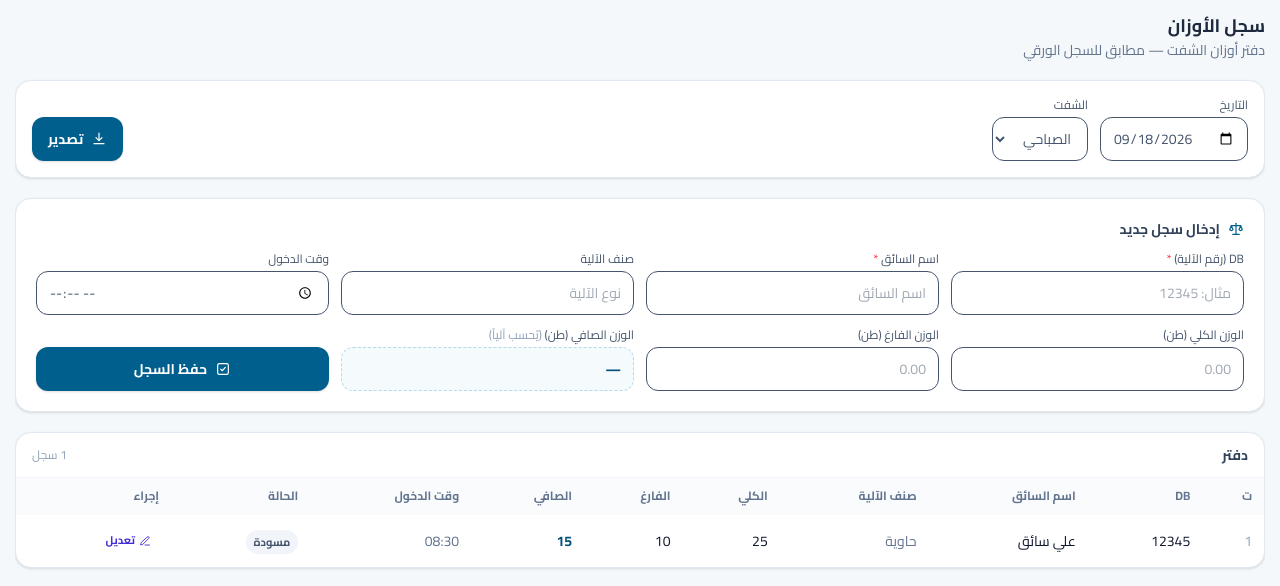
it: WeightsPage — التعديل › إلغاء التعديل يعيد النموذج لإدخال سجل جديد
Click the button with test id "edit-w1".
click(128, 541)  # box [98,525,159,557]
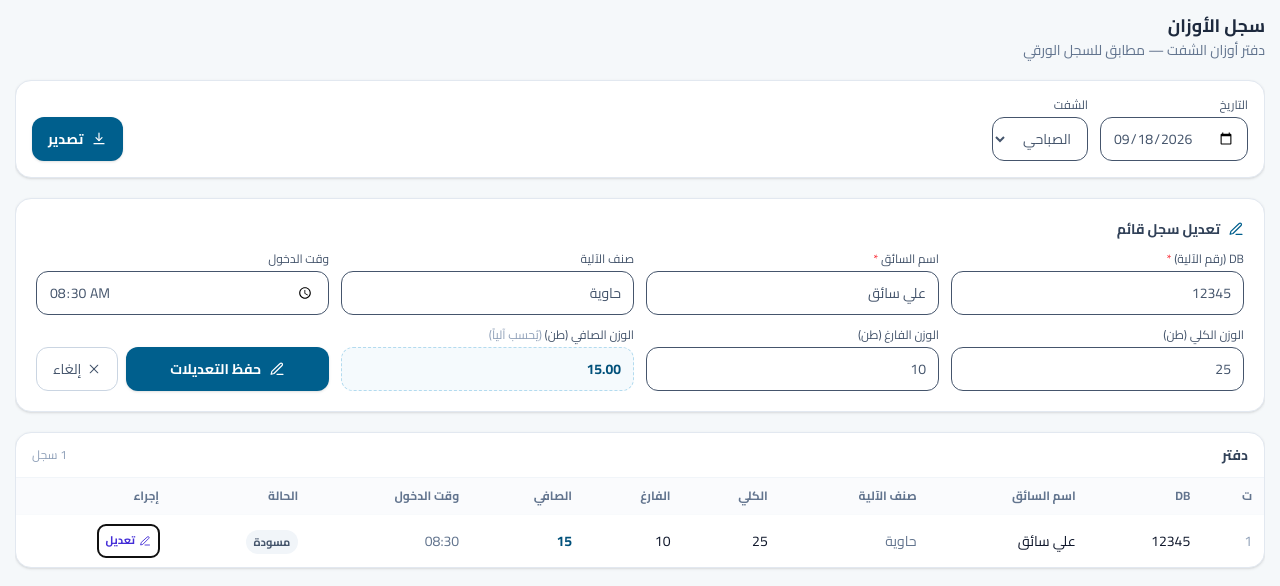
Click the button with test id "cancel-edit".
click(77, 369)  # box [36,347,118,391]
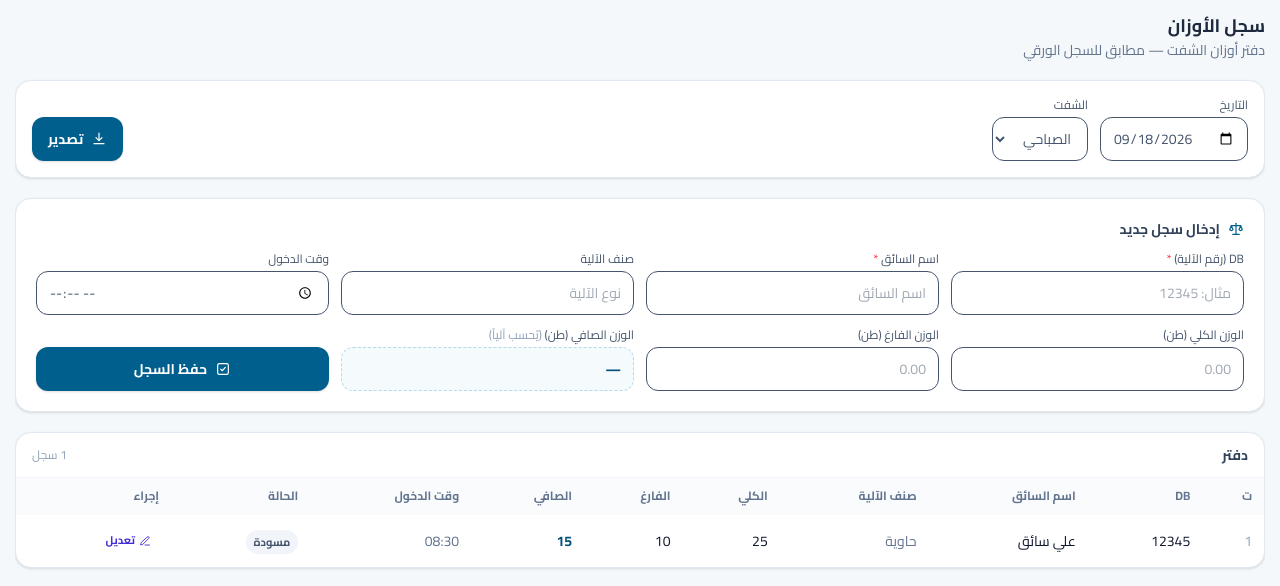
Check: the field with test id "f-db" is empty, box [951,271,1244,315]
Check: the heading "إدخال سجل جديد" is shown, box [1120,216,1244,242]
Check: the button with test id "cancel-edit" is gone
